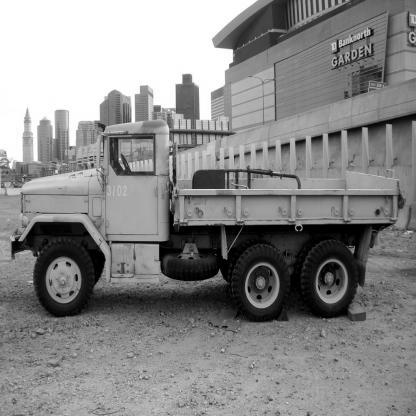truck: (21, 119, 399, 345)
